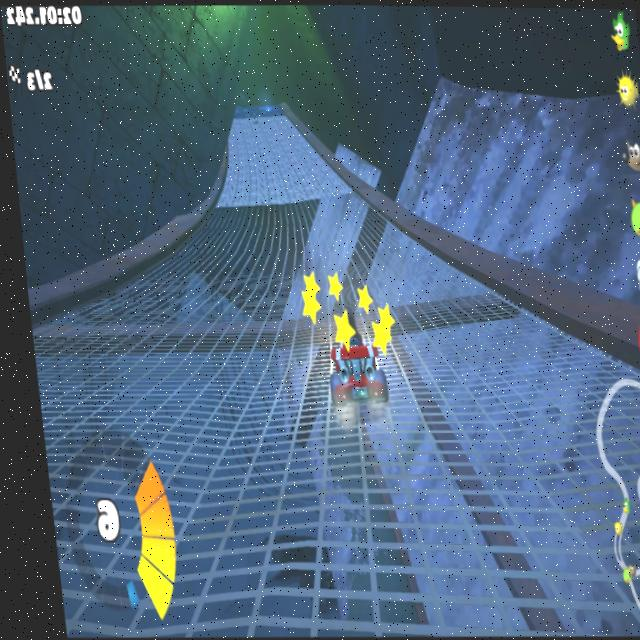player_kart: (310, 314, 385, 412)
track: (198, 193, 359, 284), (372, 266, 480, 380), (223, 116, 304, 223)
